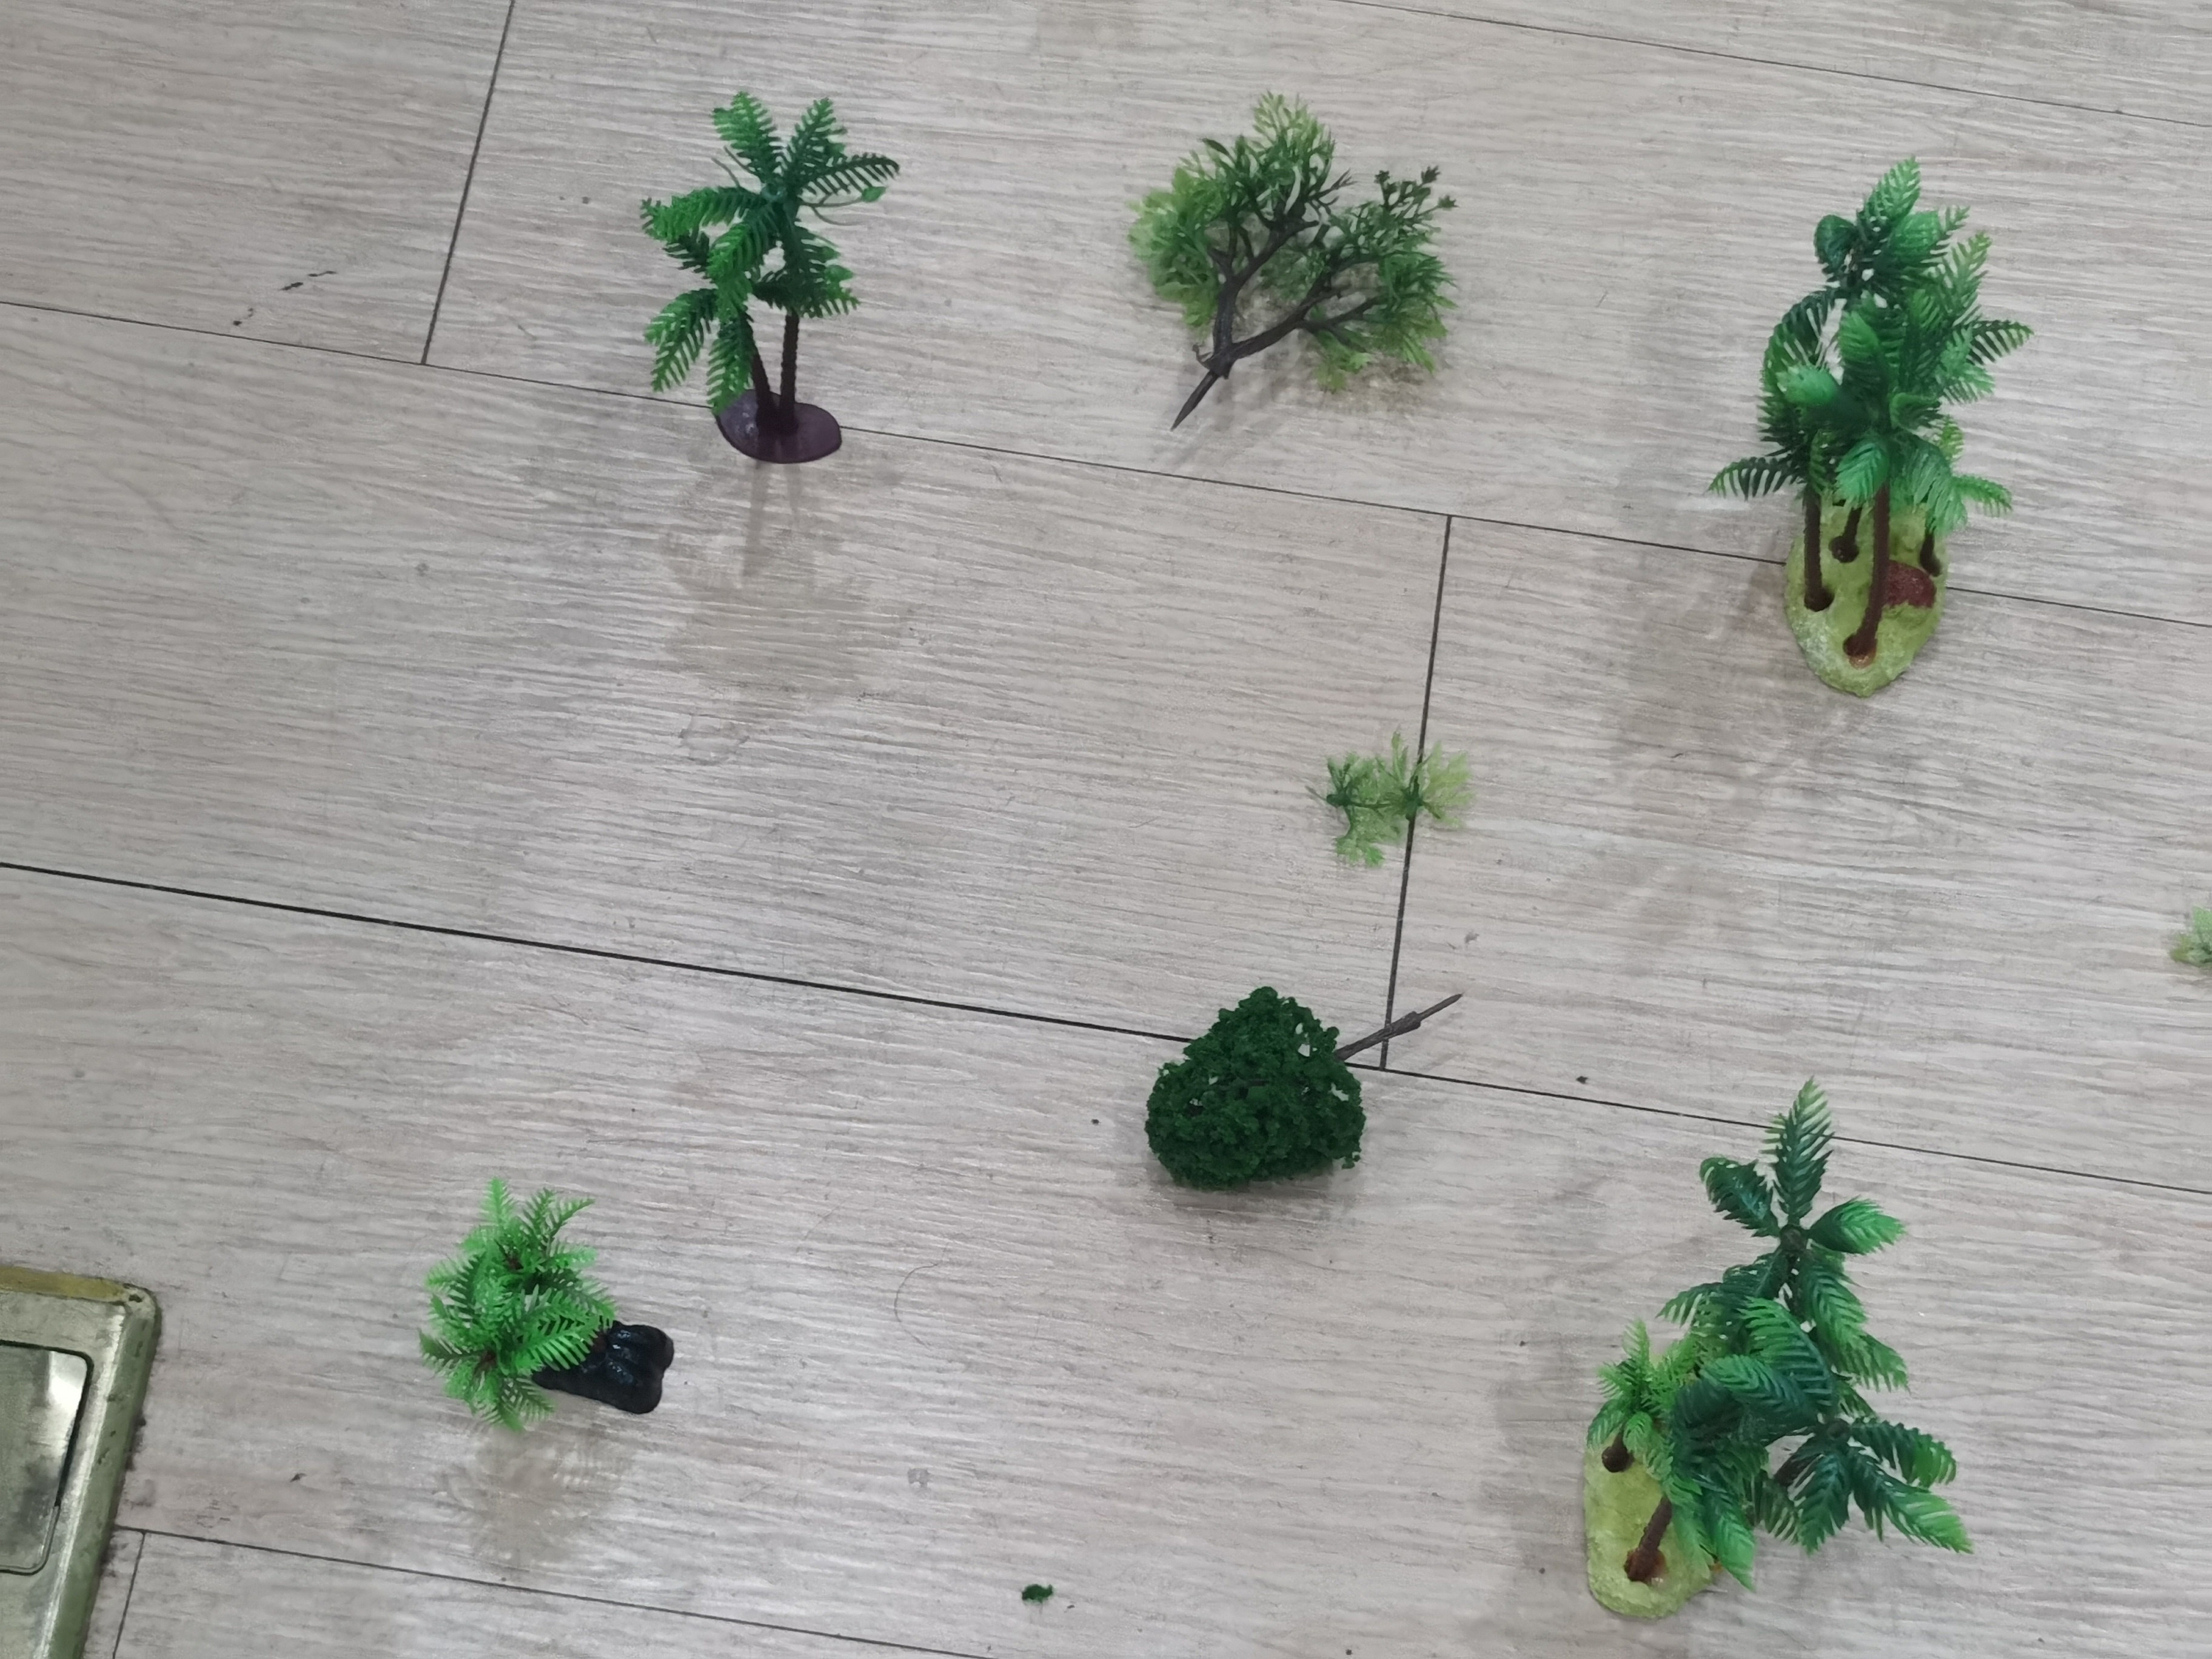corn: (1571, 1073, 1982, 1614), (1703, 150, 2029, 699), (629, 82, 894, 467), (408, 1168, 688, 1436)
